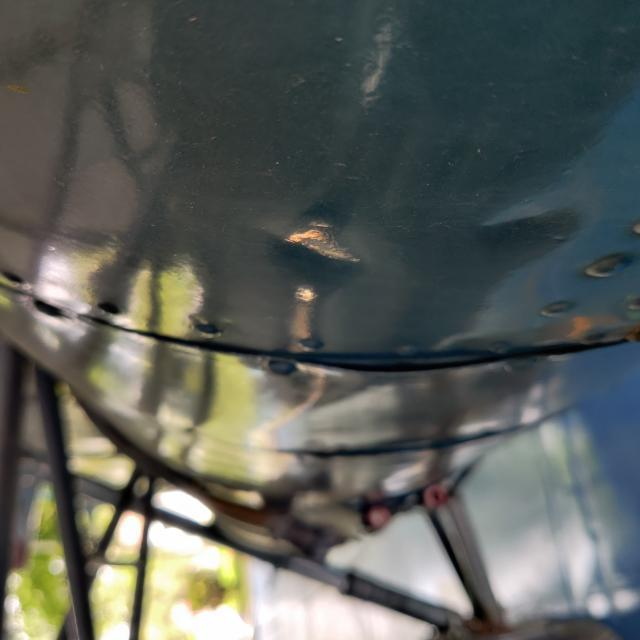Dent: (478, 208, 581, 272), (284, 203, 361, 264)
